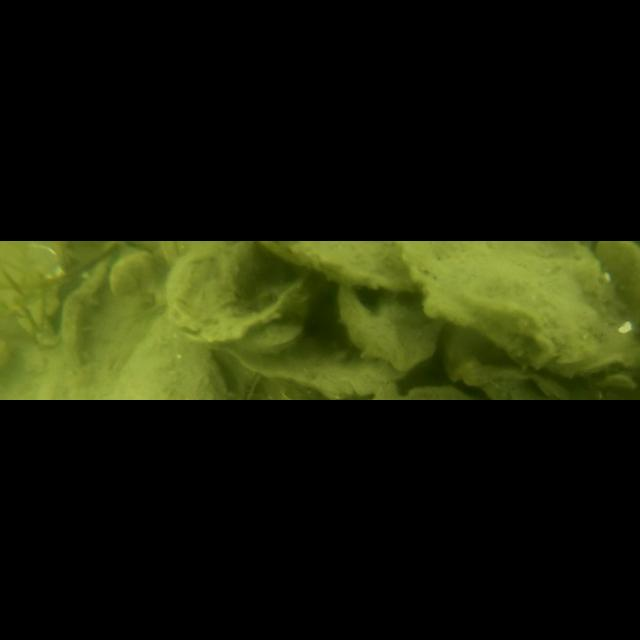Oyster-Closed: (402, 240, 640, 370), (161, 240, 324, 345), (218, 337, 400, 397), (108, 319, 226, 399), (260, 240, 421, 291), (595, 240, 640, 321), (237, 320, 305, 354), (110, 253, 156, 294)
Oyster-Open: (338, 285, 445, 371)
